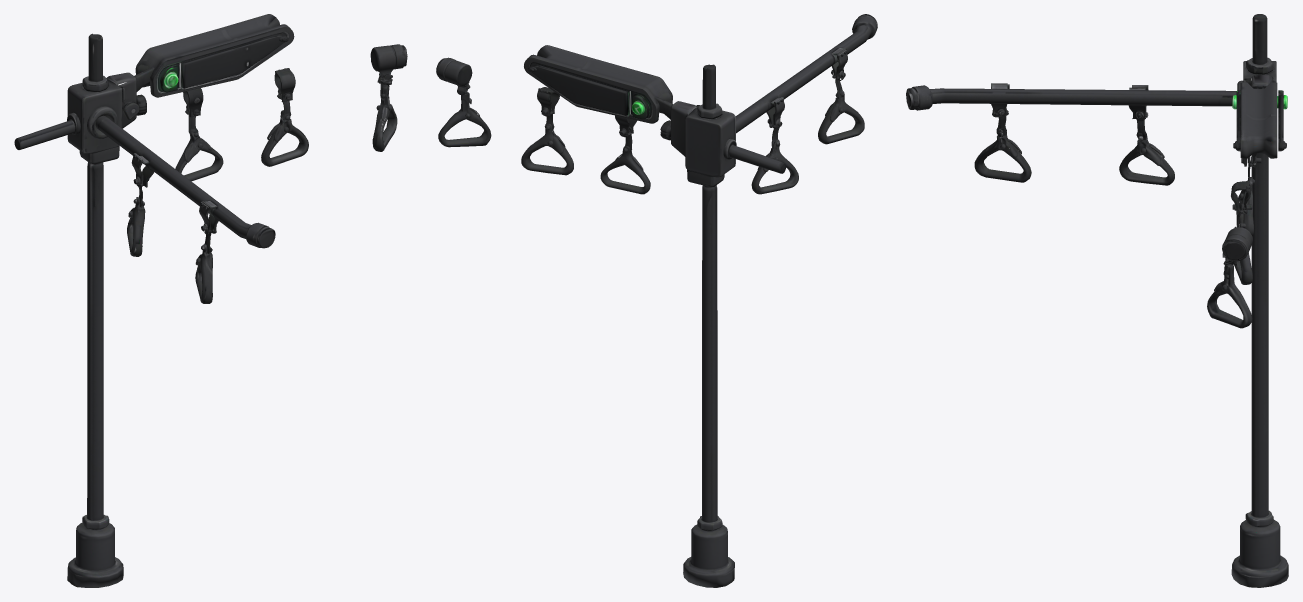
Rendered from toonstudio_subway_handrail.glb.
3 views of the same model, side by side, from view 1: azimuth 30°, elevation 25°; view 2: azimuth 150°, elevation 25°; view 3: azimuth 270°, elevation 25° (orthographic). The views are drawn at different scales.
Parts seen in each view (by area): view 1: ef020841_2198_4c60_918b_c31ff8bdc4cc; view 2: ef020841_2198_4c60_918b_c31ff8bdc4cc; view 3: ef020841_2198_4c60_918b_c31ff8bdc4cc.
Boxes of the visible parts, x1,y1,x2,y2 form: ef020841_2198_4c60_918b_c31ff8bdc4cc: (14, 14, 407, 587); ef020841_2198_4c60_918b_c31ff8bdc4cc: (436, 14, 877, 587); ef020841_2198_4c60_918b_c31ff8bdc4cc: (906, 14, 1288, 587).
Size of the model in its own units: 1.45 by 2 by 1.24.
Materials: 1 (1 with a texture image).
